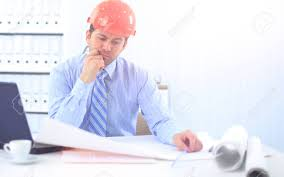Person_wearing_helmet: (79, 0, 142, 44)
